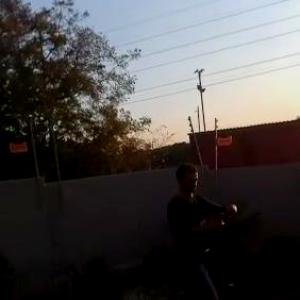follow: (160, 157, 246, 299)
